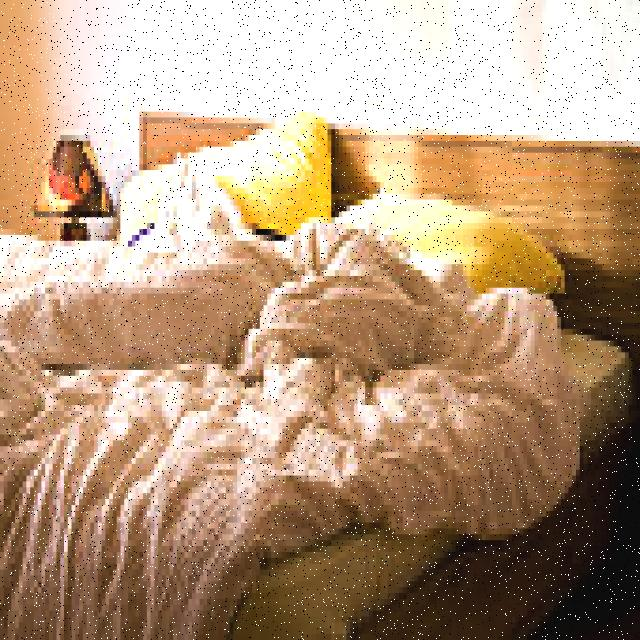bed: (0, 129, 614, 588)
